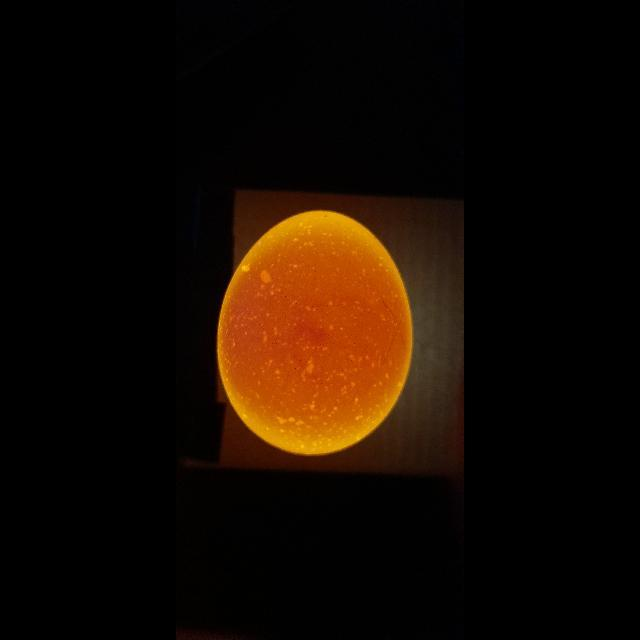Fertile: (213, 198, 414, 462)
